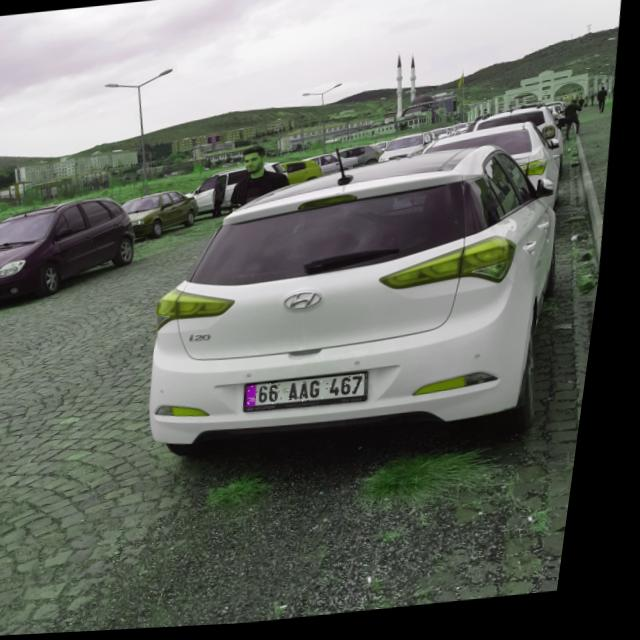license_plate: (256, 378, 380, 411)
